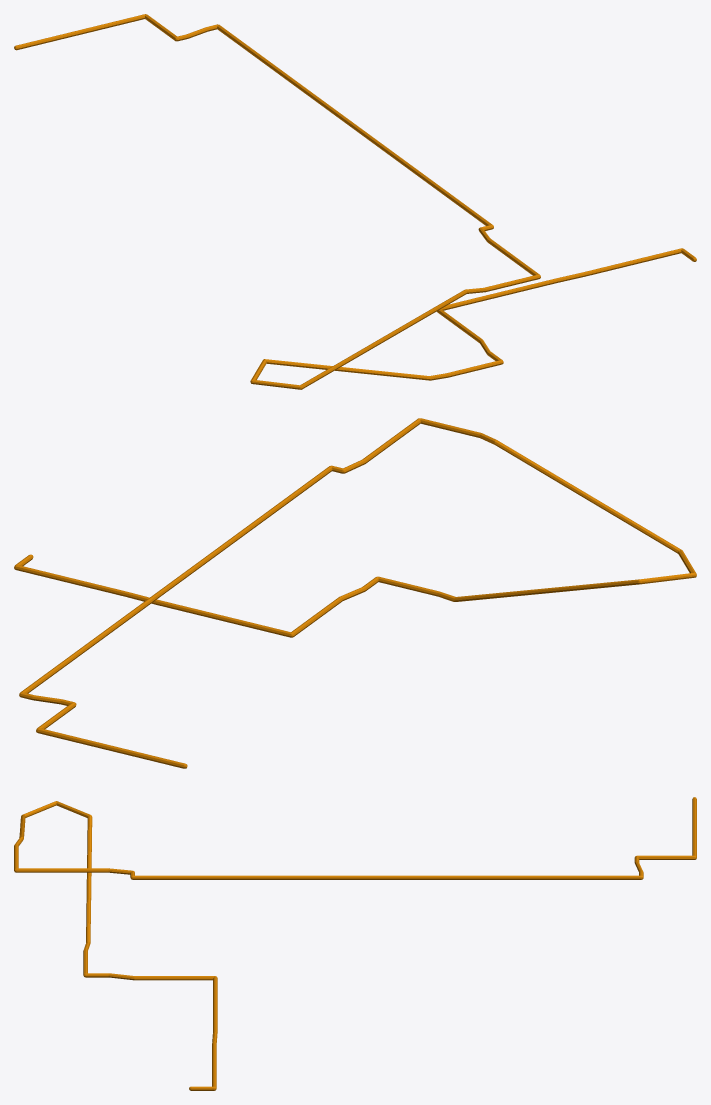
3 views of the same model, one above another, from view 1: azimuth 30°, elevation 25°; view 2: azimuth 150°, elevation 25°; view 3: azimuth 270°, elevation 25° (orthographic). The views are drawn at different scales.
Size of the model in its own units: 2406 by 520 by 2954.
